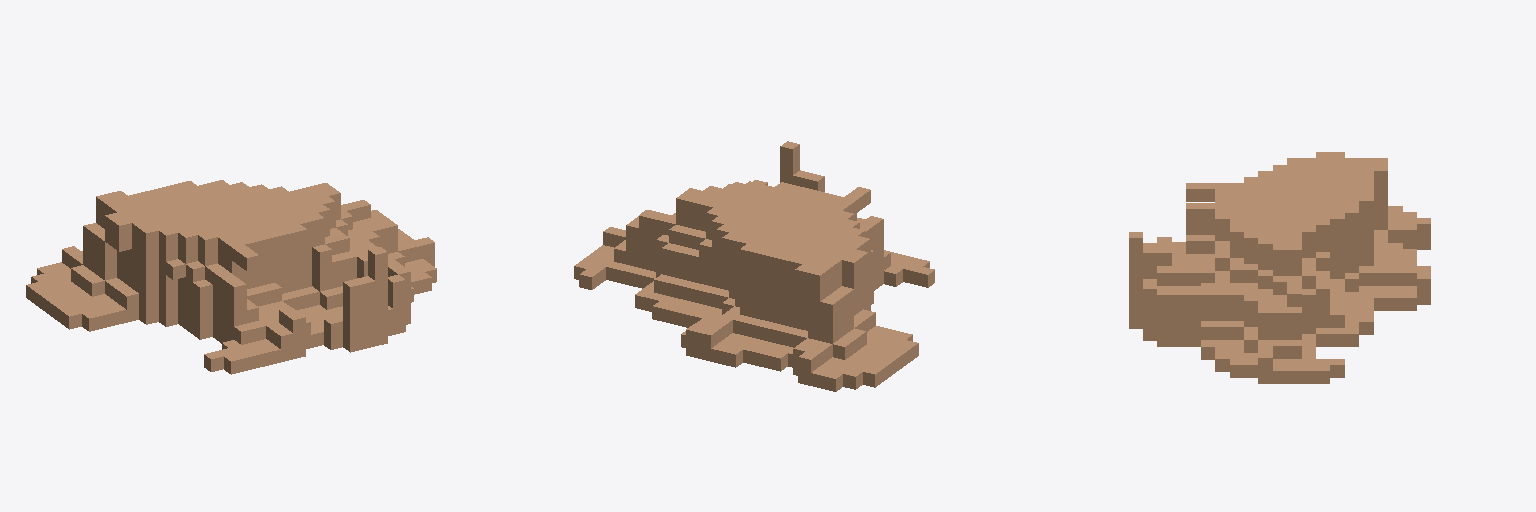
3 renders of one model, left to right at view 1: azimuth 30°, elevation 25°; view 2: azimuth 150°, elevation 25°; view 3: azimuth 270°, elevation 25°, orthographic.
Visible parts, largest first — view 1: object 1; view 2: object 1; view 3: object 1.
Part boxes in pixels (bbox=[...]): object 1: bbox=[26, 180, 436, 374]; object 1: bbox=[574, 141, 934, 391]; object 1: bbox=[1129, 152, 1430, 383].
Bounding box in the file's own units: 2.7 × 0.7 × 2.1.
1 materials, 1 textured.